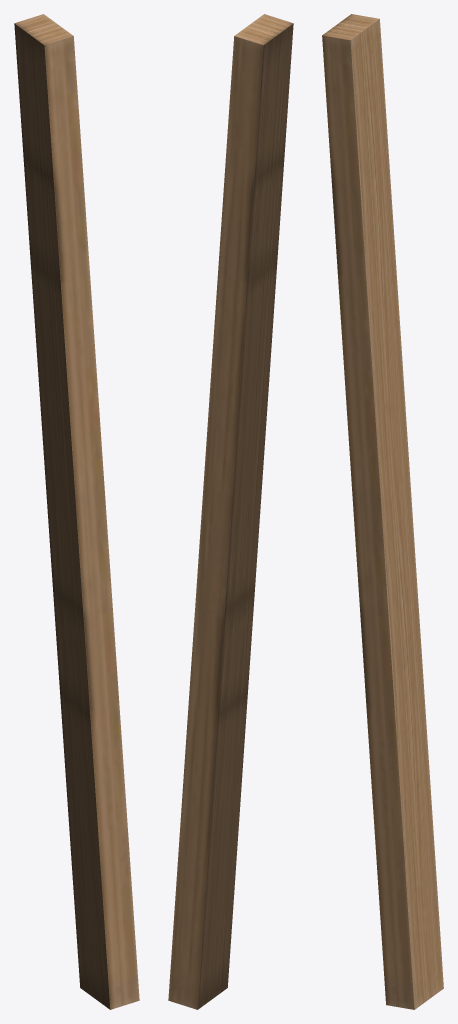
Rendered from Map_Furniture_103.fbx.
The picture shows the model from 3 angles, left to right: view 1: azimuth 30°, elevation 25°; view 2: azimuth 150°, elevation 25°; view 3: azimuth 330°, elevation 25°; orthographic projection. The views are drawn at different scales.
Parts seen in each view (by area): view 1: Map_Furniture_103; view 2: Map_Furniture_103; view 3: Map_Furniture_103.
Part boxes in pixels (box(x1,y1,x2,y2)): Map_Furniture_103: box(14, 14, 139, 1009); Map_Furniture_103: box(168, 14, 293, 1009); Map_Furniture_103: box(322, 14, 443, 1009).
Bounding box in the file's own units: 0.3646 × 3.6 × 0.2.
